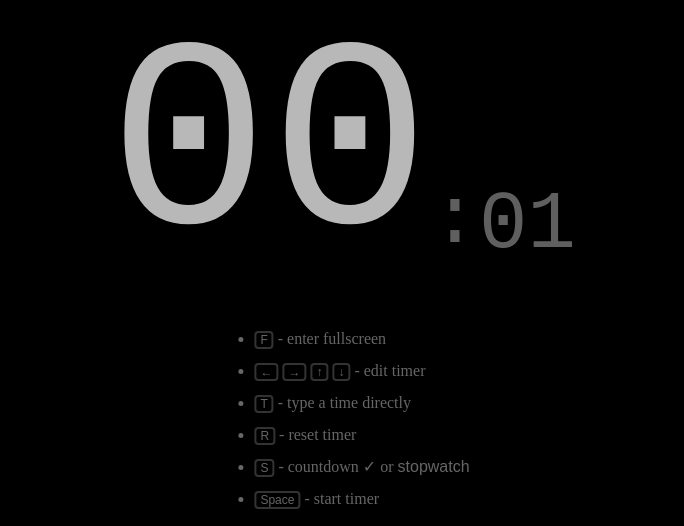
it: continues countdown past zero and shows negative time in red
This screenshot has width=684, height=526.
Click the button "Space": (277, 500) [254,491,300,509]
Wait 1500 ms
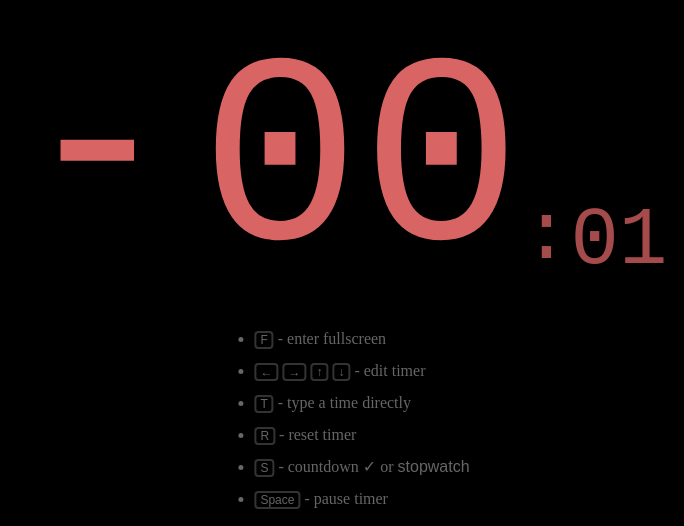
Expected: the element with class "clock" reads "- 00 : 01", [17,17,667,285]
